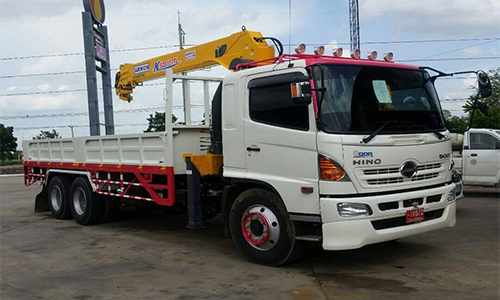truck: (24, 29, 458, 266)
